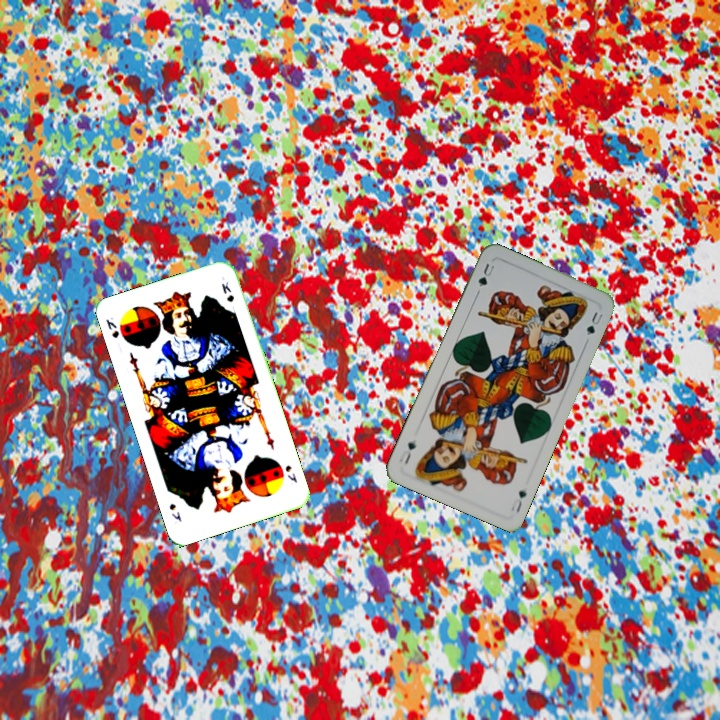GU: (474, 259, 497, 290), (507, 486, 529, 516)
SK: (102, 313, 122, 341), (281, 461, 300, 485)
